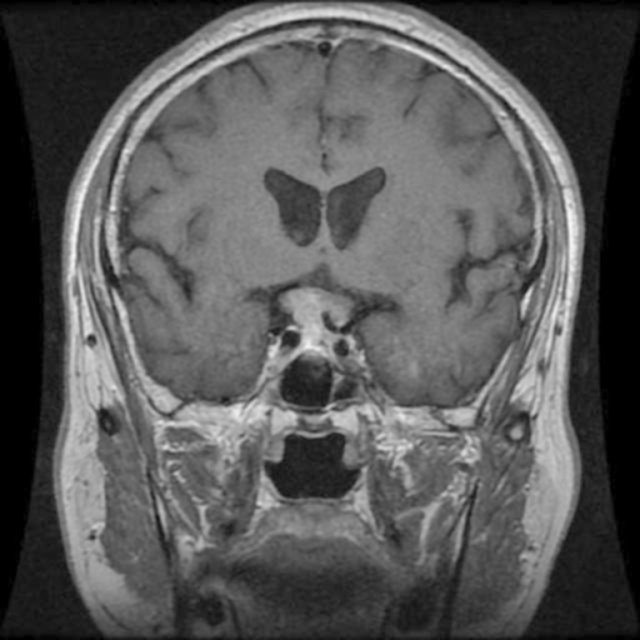no tumor: (277, 280, 365, 350)
